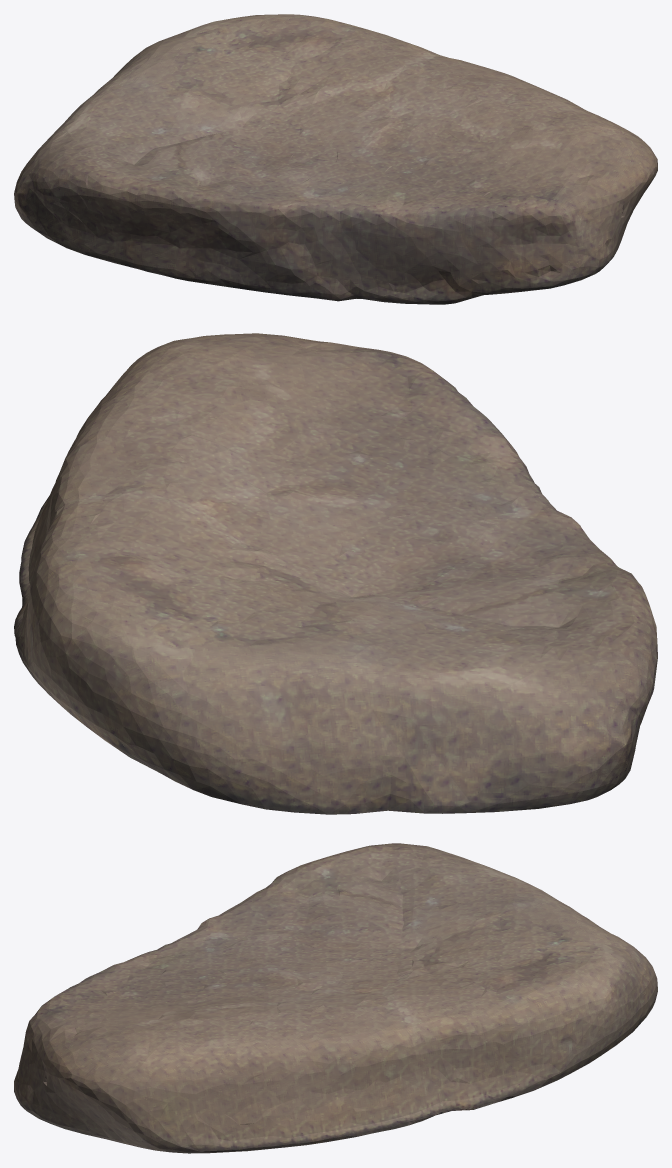
Rendered from rock5.glb.
3 renders of one model, top to bottom at view 1: azimuth 30°, elevation 25°; view 2: azimuth 150°, elevation 25°; view 3: azimuth 270°, elevation 25°, orthographic. The views are drawn at different scales.
Visible parts, largest first — view 1: world; view 2: world; view 3: world.
Part boxes in pixels (<box>): world: <box>14,14,657,304</box>; world: <box>14,333,657,814</box>; world: <box>14,843,657,1153</box>.
Bounding box in the file's own units: 0.6688 × 0.1503 × 0.6881.
1 material, 1 textured.
